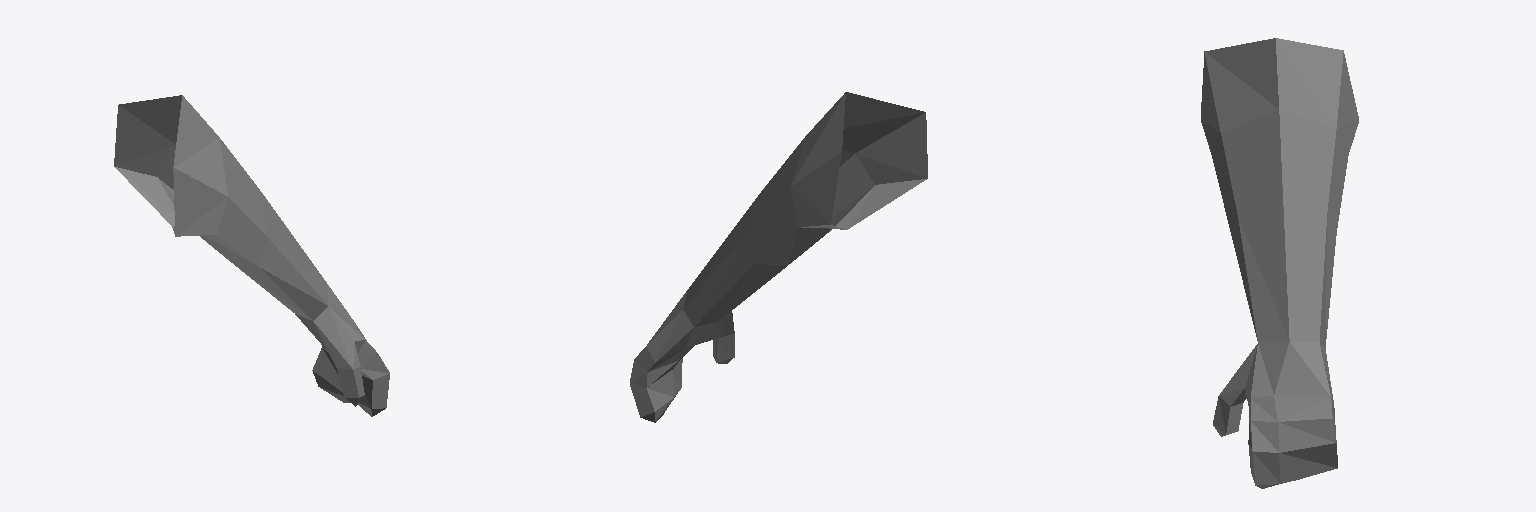
The model's file is Perry_BrazoI.obj.
The picture shows the model from 3 angles: view 1: azimuth 30°, elevation 25°; view 2: azimuth 150°, elevation 25°; view 3: azimuth 270°, elevation 25°; orthographic projection.
Visible parts, largest first — view 1: BrazoI; view 2: BrazoI; view 3: BrazoI.
Boxes of the visible parts, box(x1,y1,x2,y2) form: BrazoI: box(114, 95, 389, 416); BrazoI: box(630, 92, 927, 422); BrazoI: box(1201, 38, 1358, 488).
Bounding box in the file's own units: 1.07 × 1.54 × 0.6139.